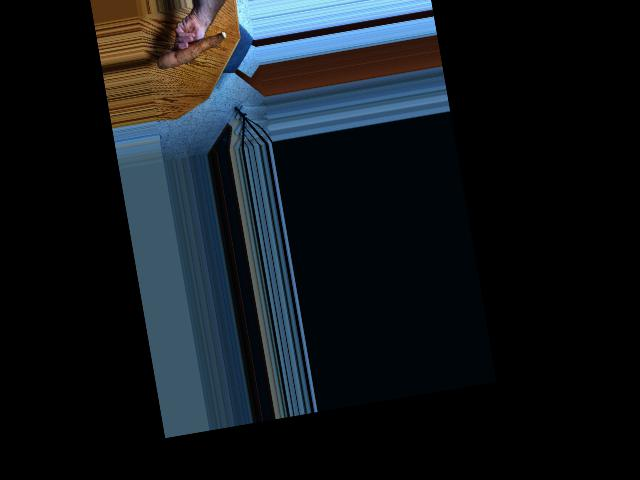sweet_potato: (155, 27, 231, 71)
